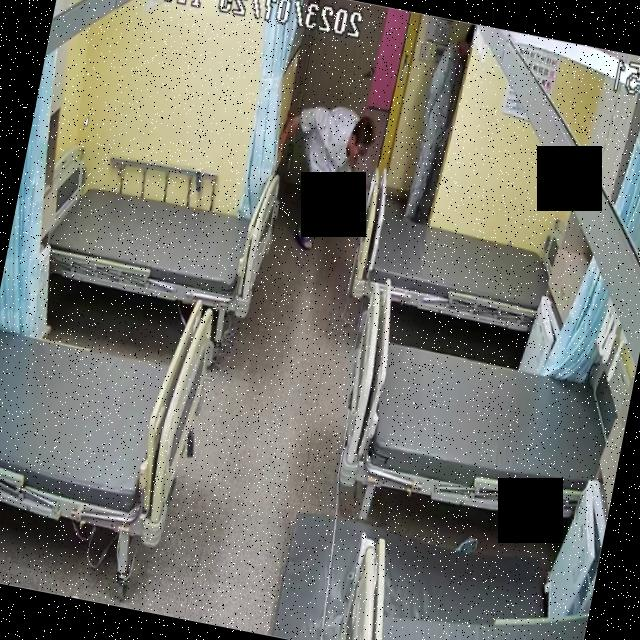bed: (0, 263, 221, 545), (333, 326, 620, 526), (28, 158, 280, 320), (352, 200, 556, 332)
danger: (265, 90, 382, 256)
patient: (266, 89, 382, 253), (400, 17, 478, 226)
